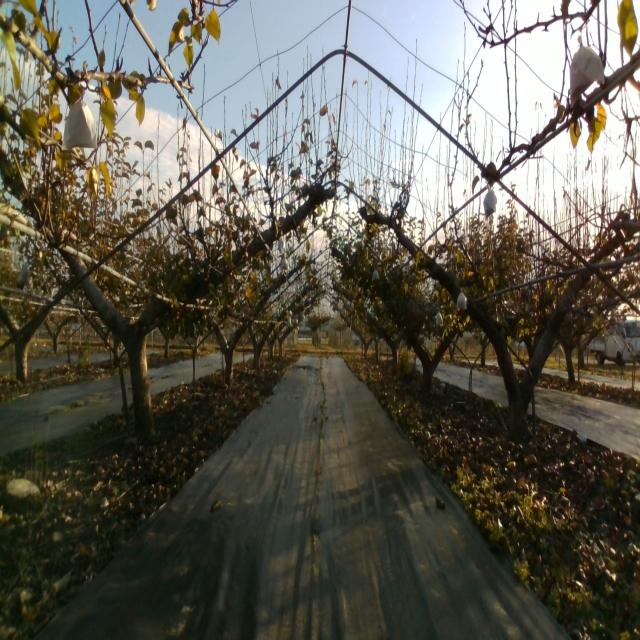pearbags: (568, 32, 606, 108), (62, 98, 99, 150), (484, 186, 497, 218), (456, 287, 468, 311)
